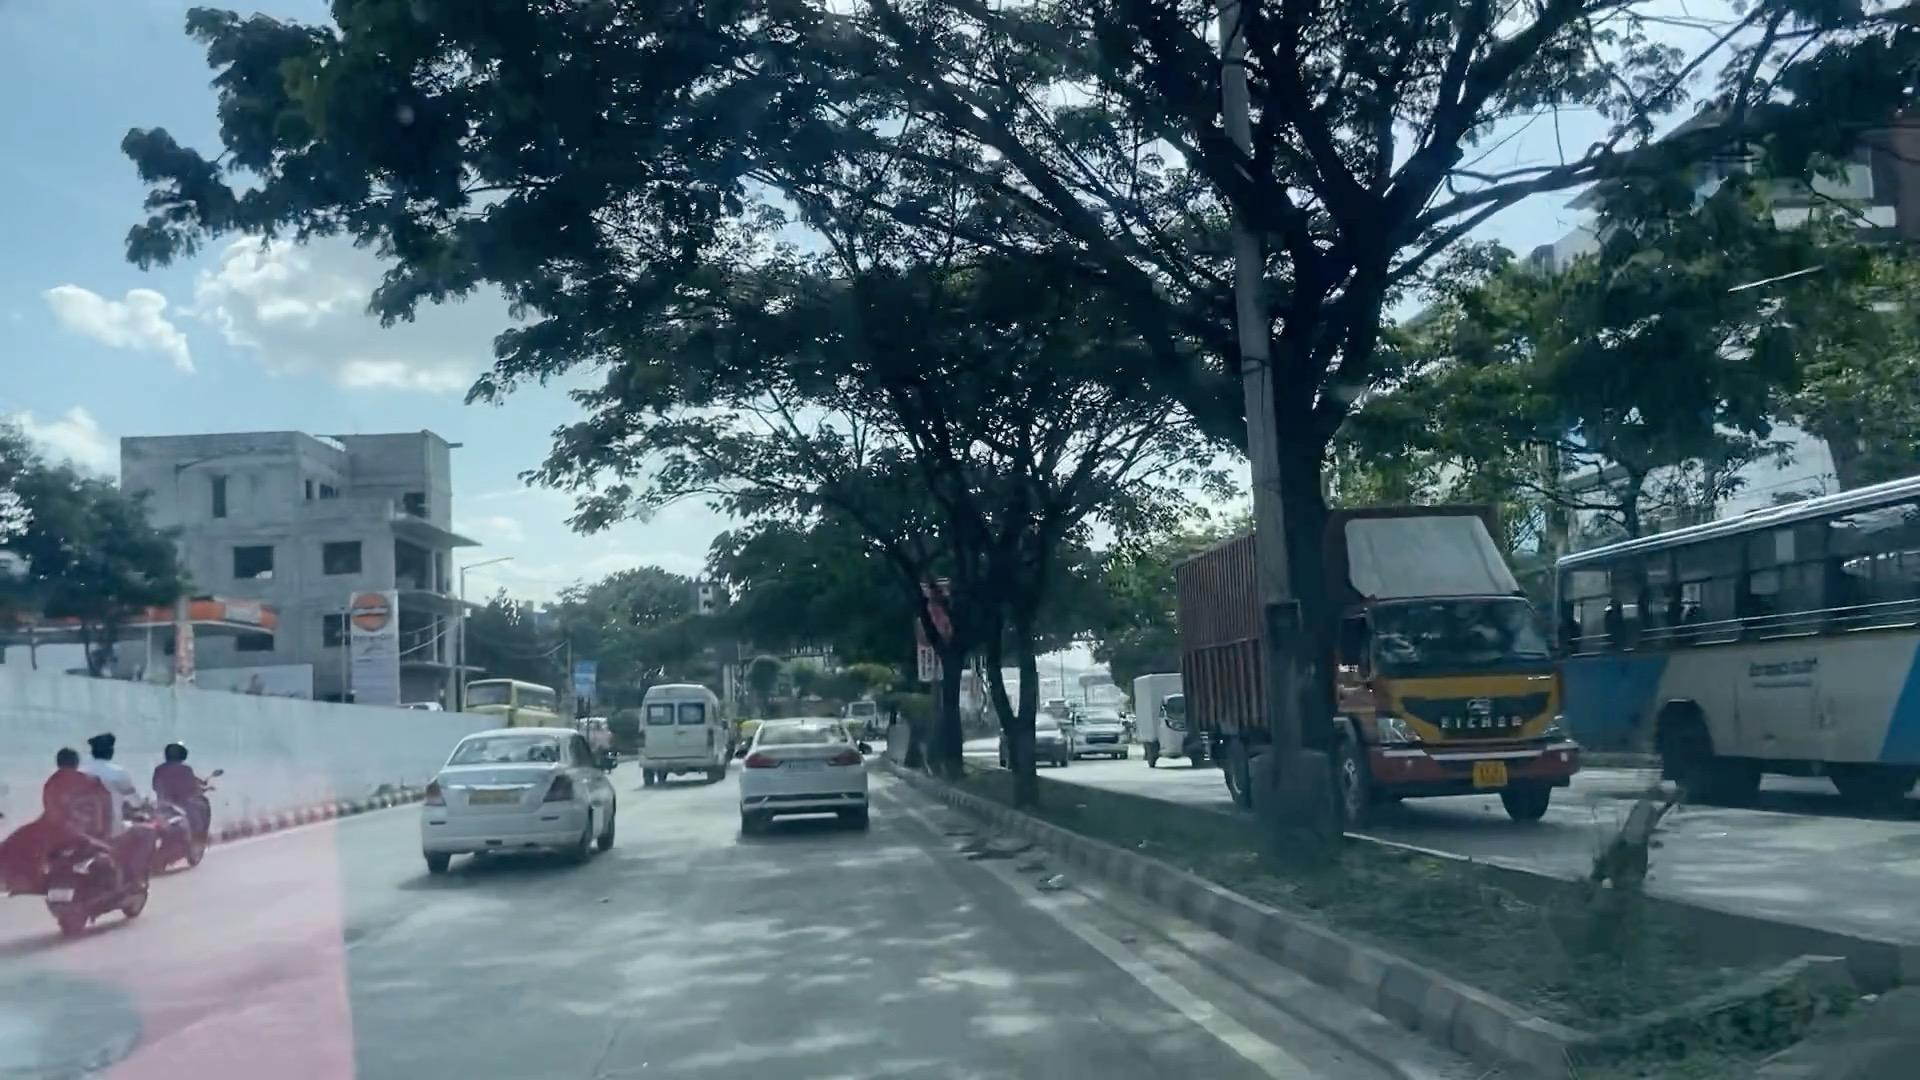LMV: (55, 731, 148, 963), (435, 732, 592, 857), (748, 725, 870, 828), (156, 732, 218, 880), (642, 678, 717, 782)
